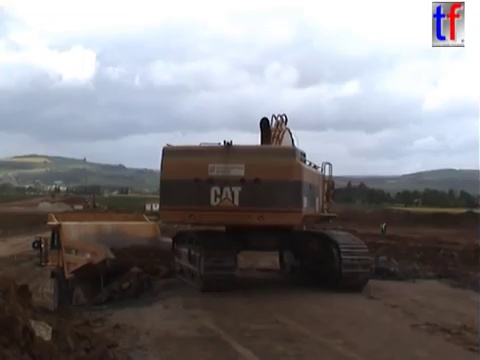excavator: (155, 111, 375, 295), (79, 194, 108, 215)
truck: (31, 209, 222, 315), (48, 190, 57, 199), (63, 190, 70, 198)
worker: (379, 218, 390, 237)
